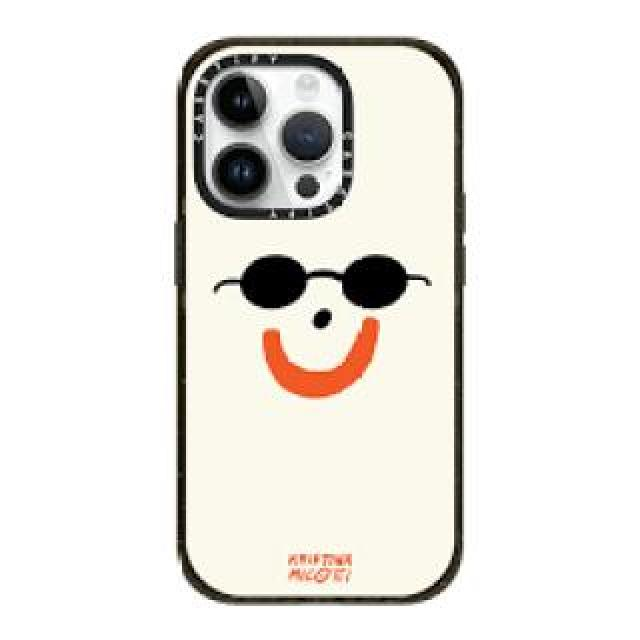smart phone: (158, 12, 507, 628)
